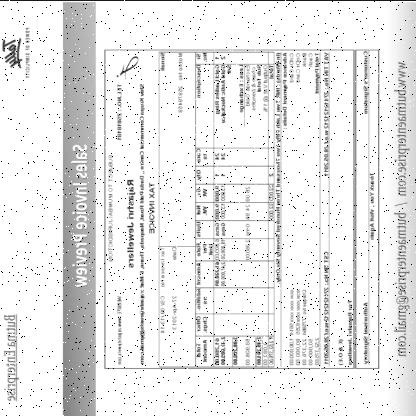Paragraph: (392, 60, 410, 358), (282, 51, 320, 129), (70, 143, 88, 288), (288, 288, 320, 366), (139, 82, 146, 364), (158, 246, 178, 332), (2, 312, 20, 400), (275, 52, 281, 284), (322, 250, 330, 364), (126, 178, 136, 268), (324, 50, 330, 176), (108, 154, 113, 262), (346, 299, 354, 365), (362, 50, 370, 113), (369, 171, 376, 239), (362, 300, 369, 364), (116, 294, 122, 364), (178, 52, 184, 112), (116, 82, 122, 140), (24, 26, 30, 78), (149, 182, 155, 233), (338, 338, 344, 366), (159, 52, 165, 70)
Table: (195, 51, 274, 366)
